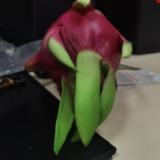pitaya: (40, 2, 130, 116)
